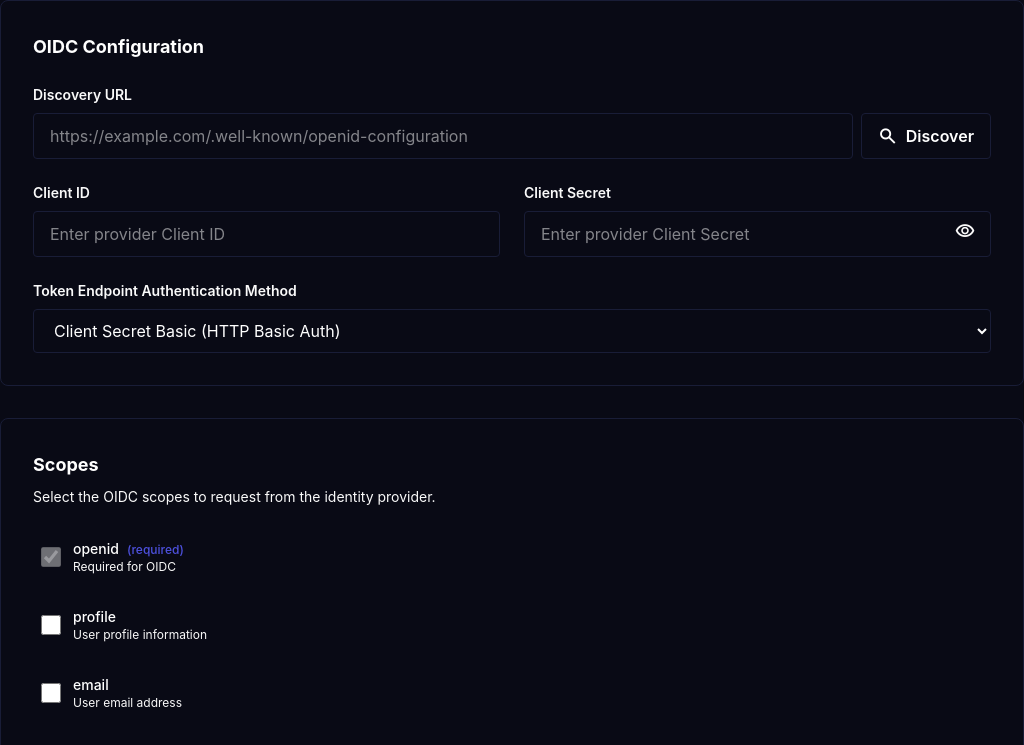
Test: OidcConfigForm › Auto-Discovery (AC3) › displays discovered issuer on successful discovery
Type "https://accounts.google.com/.well-known/openid-configuration" into the field labelled "Discovery URL".
click(443, 136); type("https://accounts.google.com/.well-known/openid-configuration")  # box [33,113,853,159]
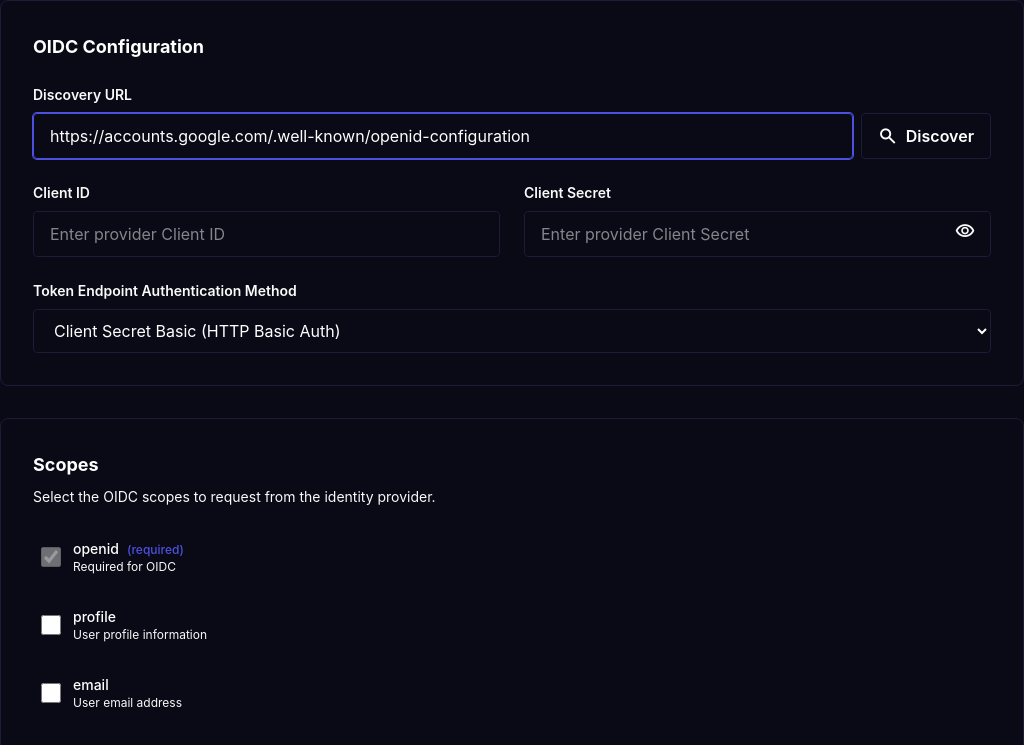
Click the button "Discover".
click(926, 136)  # box [861,113,991,159]
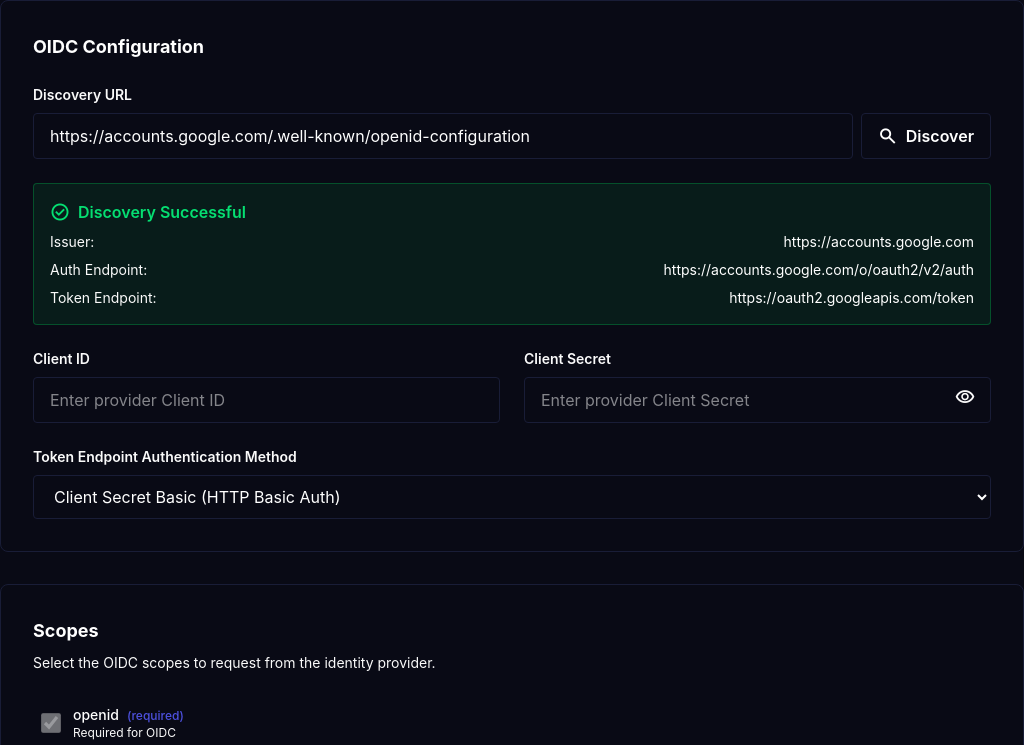
Now the element with test id "discovery-result" is shown, box [33,183,991,325]
